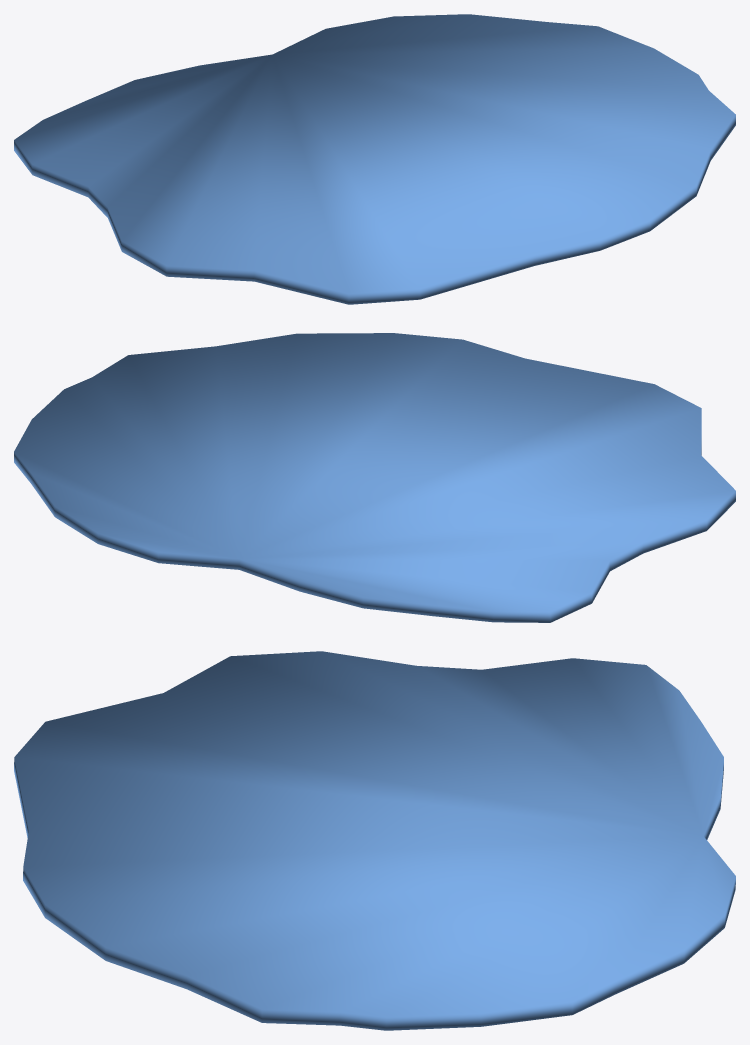
Rendered from puddle4.fbx.
3 renders of one model, top to bottom at view 1: azimuth 30°, elevation 25°; view 2: azimuth 150°, elevation 25°; view 3: azimuth 270°, elevation 25°, orthographic. The views are drawn at different scales.
Parts seen in each view (by area): view 1: Circle; view 2: Circle; view 3: Circle.
Boxes of the visible parts, bbox=[...] form: Circle: bbox=[14, 14, 735, 304]; Circle: bbox=[14, 333, 735, 622]; Circle: bbox=[14, 651, 735, 1030].
Bounding box in the file's own units: 503 × 9.74 × 419.
